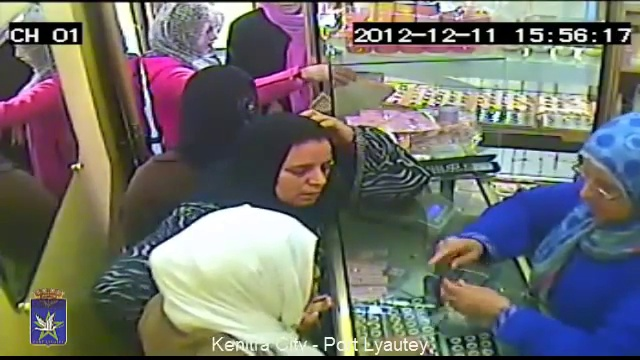face: (570, 165, 637, 230), (274, 150, 330, 203)
